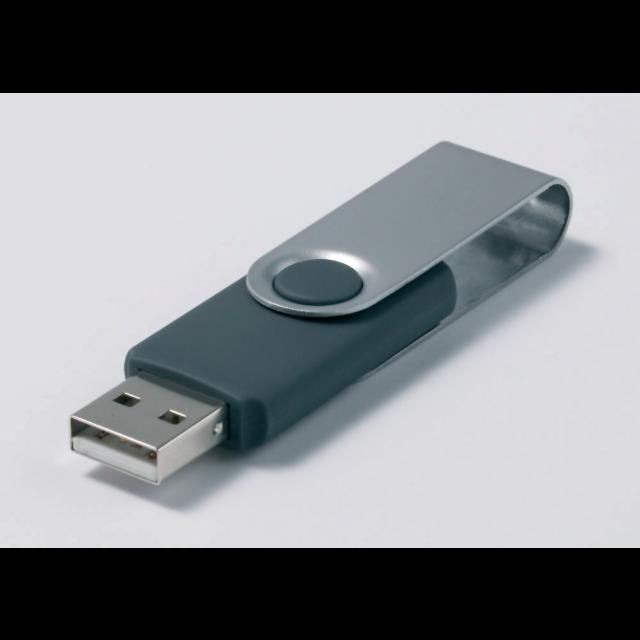USB-Flash-Drive: (48, 133, 600, 494)
